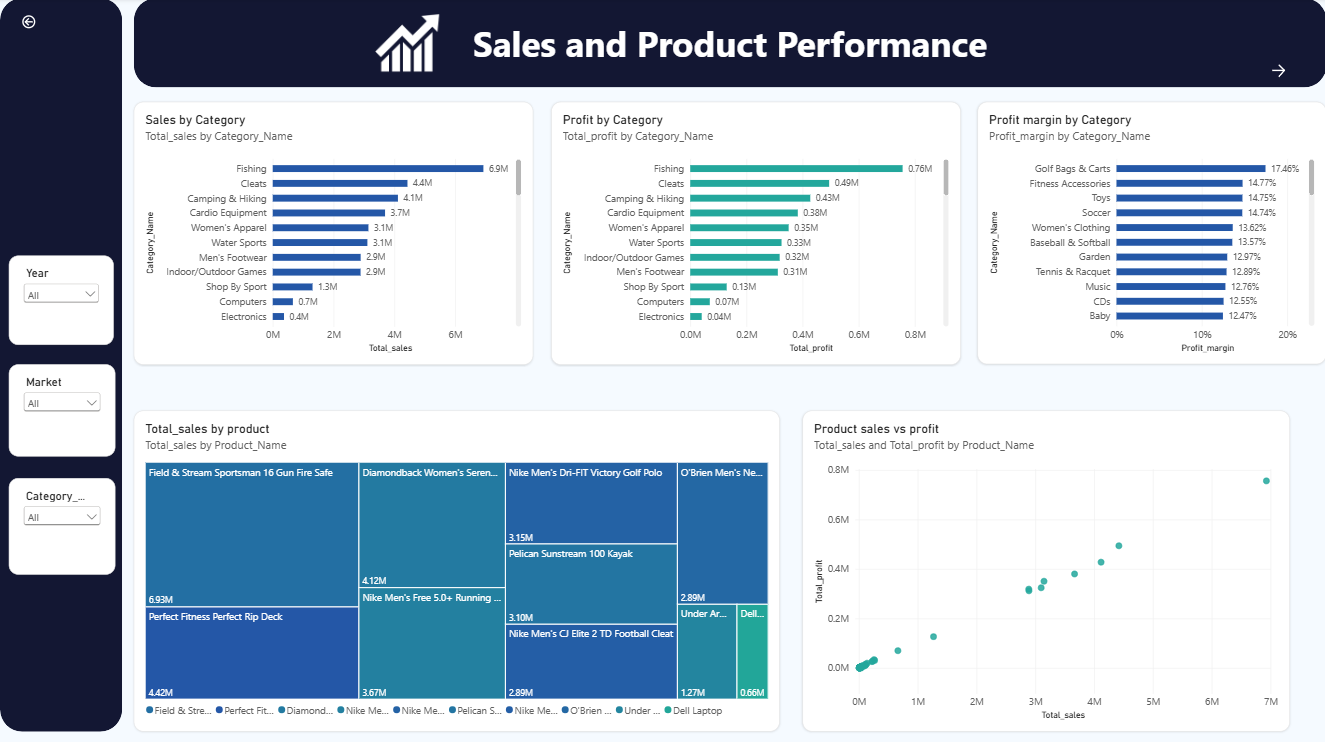

The page's visual inventory and layout, read from the dashboard file:
{"tool":"powerbi","page":{"name":"Sales and Product Performance","canvas":[1920,1080],"ordinal":2},"visuals":[{"type":"clusteredBarChart","title":"Sales by Category","fields":{"Category":["dataco_data.Category_Name"],"Y":["dataco_data.Total_sales"]},"box":[193.6,150.2,578.4,380.8],"z":0},{"type":"clusteredBarChart","title":"Profit by Category","fields":{"Category":["dataco_data.Category_Name"],"Y":["dataco_data.Total_profit"]},"box":[798.1,150.2,592.8,380.8],"z":1000},{"type":"clusteredBarChart","title":"Profit margin by Category","fields":{"Category":["dataco_data.Category_Name"],"Y":["dataco_data.Profit_margin"]},"box":[1415.2,150.2,504.9,380],"z":2000},{"type":"scatterChart","title":"Product sales vs profit","fields":{"Category":["dataco_data.Product_Name"],"X":["dataco_data.Total_sales"],"Y":["dataco_data.Total_profit"]},"box":[1161.8,597.2,705.8,465.1],"z":3000},{"type":"shape","box":[193.5,0,1726.9,129.7],"z":4000},{"type":"shape","box":[0,0,177,1062.1],"z":5000},{"type":"slicer","fields":{"Values":["dataco_data.order_date_DateOrders.Variation.Date Hierarchy.Year"]},"box":[12.3,372.6,152.3,129.7],"z":6000},{"type":"slicer","fields":{"Values":["dataco_data.Market"]},"box":[12.3,531,154.4,133.8],"z":7000},{"type":"slicer","fields":{"Values":["dataco_data.Category_Name"]},"box":[12.3,695.7,154.4,140],"z":8000},{"type":"treemap","title":"Total_sales by product","fields":{"Group":["dataco_data.Product_Name"],"Values":["dataco_data.Total_sales"]},"box":[193.6,597.2,935.6,465.1],"z":9000},{"type":"image","box":[542.9,18.1,94.1,94.1],"z":10000},{"type":"actionButton","box":[1800.6,85.1,100,40],"z":10001},{"type":"actionButton","box":[10,10,61.5,47.1],"z":10002}]}

Visuals, with their boxes on the page's 1920x1080 design canvas (x1, y1, x2, y2). These are canvas units, not pixel positions in the 1325x742 screenshot, which may show the page scaled, cropped or inside an application window:
"Sales by Category" clusteredBarChart: [left=194, top=150, right=772, bottom=531]
"Profit by Category" clusteredBarChart: [left=798, top=150, right=1391, bottom=531]
"Profit margin by Category" clusteredBarChart: [left=1415, top=150, right=1920, bottom=530]
"Product sales vs profit" scatterChart: [left=1162, top=597, right=1868, bottom=1062]
shape: [left=194, top=0, right=1920, bottom=130]
shape: [left=0, top=0, right=177, bottom=1062]
slicer - dataco_data.order_date_DateOrders.Variation.Date Hierarchy.Year: [left=12, top=373, right=165, bottom=502]
slicer - dataco_data.Market: [left=12, top=531, right=167, bottom=665]
slicer - dataco_data.Category_Name: [left=12, top=696, right=167, bottom=836]
"Total_sales by product" treemap: [left=194, top=597, right=1129, bottom=1062]
image: [left=543, top=18, right=637, bottom=112]
actionButton: [left=1801, top=85, right=1901, bottom=125]
actionButton: [left=10, top=10, right=72, bottom=57]
